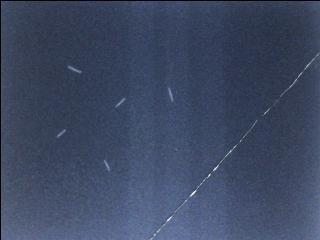scratch: (151, 52, 319, 240), (158, 81, 183, 105), (96, 153, 120, 175), (111, 90, 132, 113), (61, 60, 85, 78), (52, 125, 70, 142)
